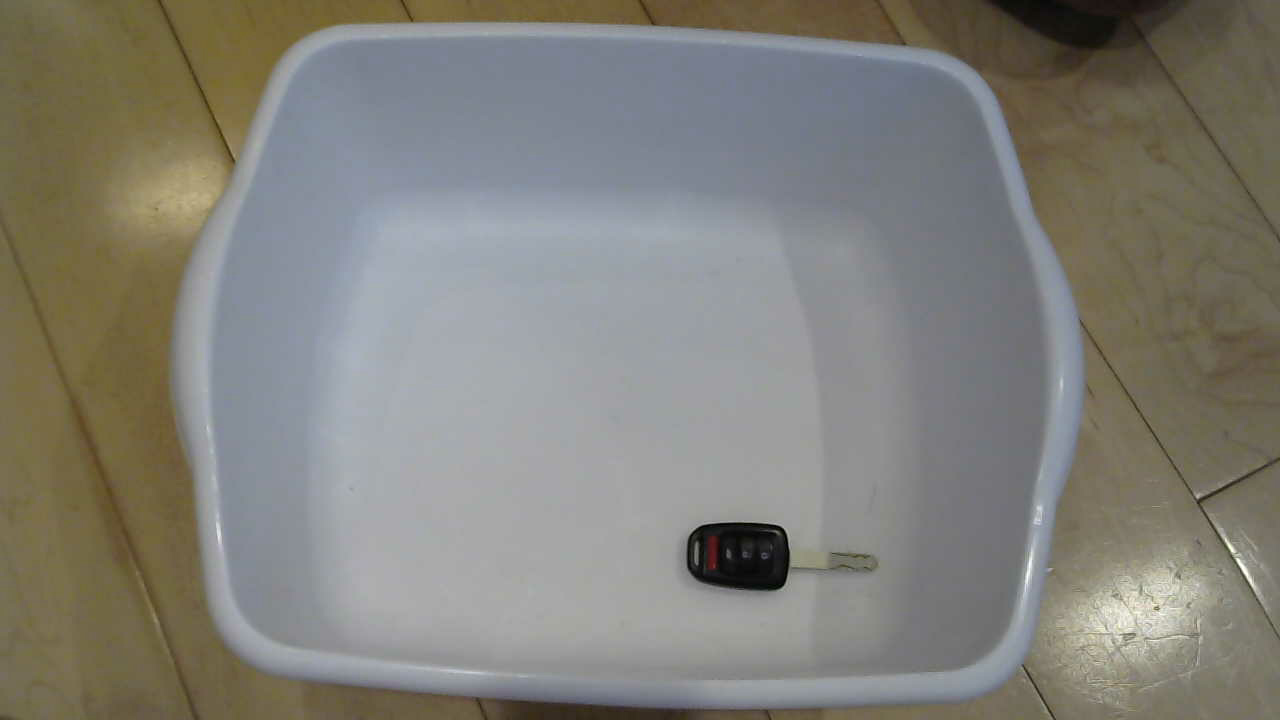key: (668, 519, 894, 615)
